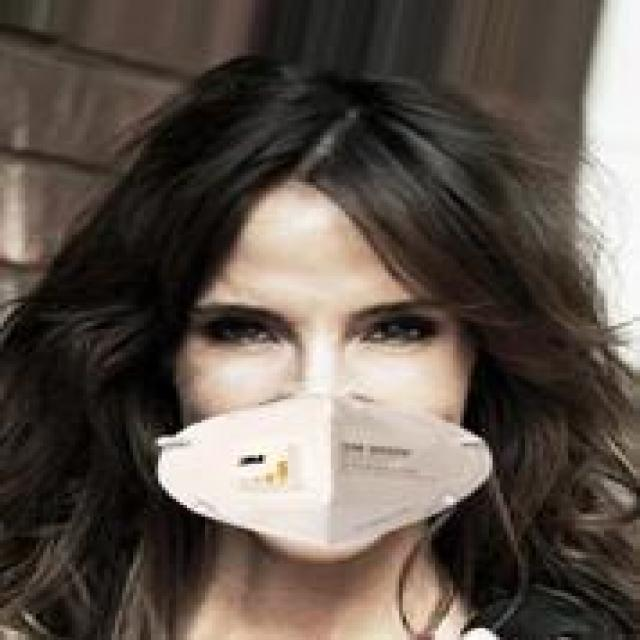mask: (97, 53, 561, 572)
